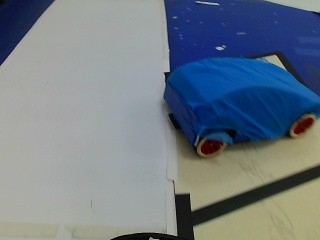car: (156, 56, 318, 150)
